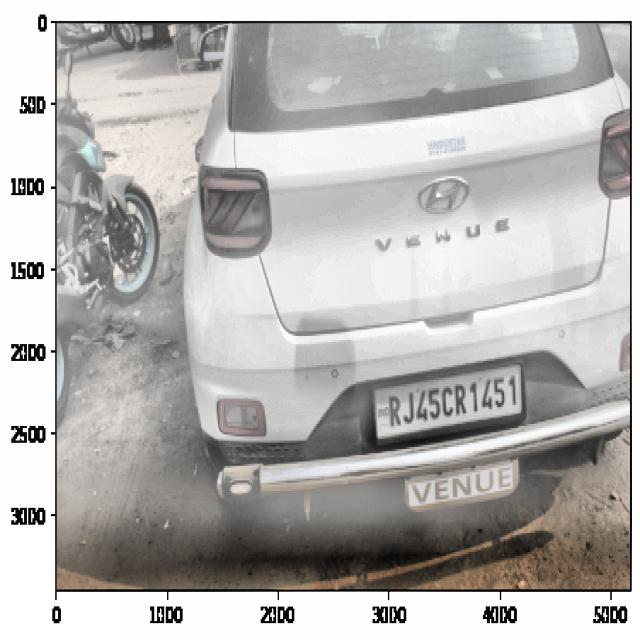license_plate: (382, 371, 525, 436)
